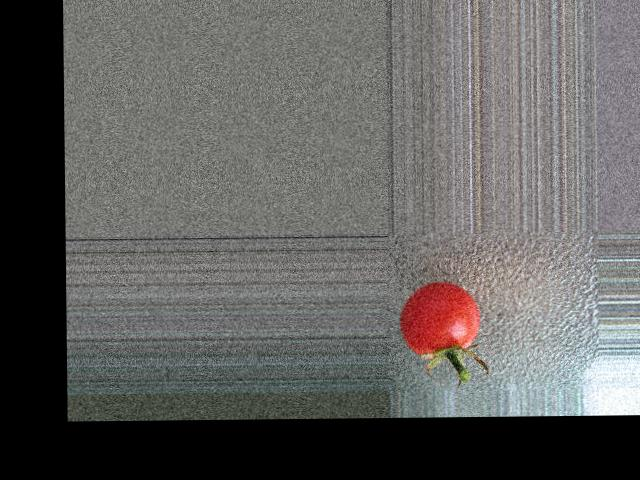tomato: (400, 280, 481, 355)
